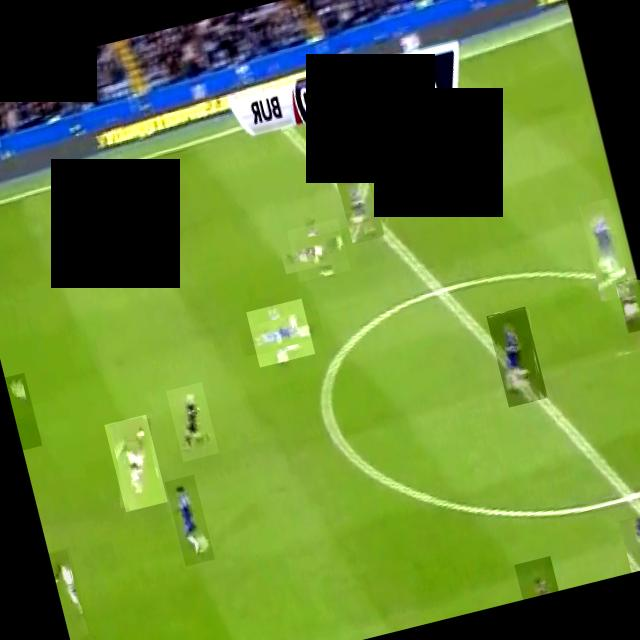referee: (165, 382, 219, 462)
soccer-player: (486, 306, 548, 407), (104, 414, 167, 512), (578, 198, 632, 302), (246, 298, 315, 367), (164, 474, 214, 566), (286, 218, 351, 282), (334, 162, 384, 244), (48, 547, 90, 639), (4, 372, 42, 450), (514, 556, 558, 600), (615, 277, 640, 333), (618, 511, 640, 572)
